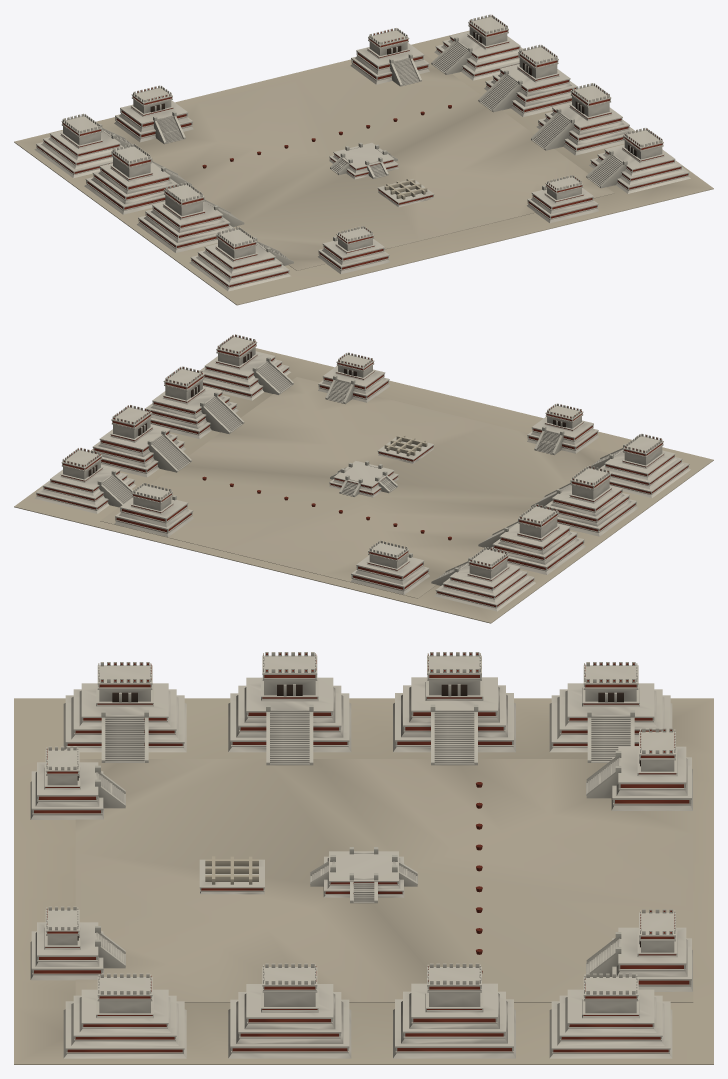
File: moon-plaza.glb
The picture shows the model from 3 angles, top to bottom: view 1: azimuth 30°, elevation 25°; view 2: azimuth 150°, elevation 25°; view 3: azimuth 270°, elevation 25°; orthographic projection. The views are drawn at different scales.
Parts seen in each view (by area): view 1: p0_plaza, p1_platforms, p2_braziers; view 2: p0_plaza, p1_platforms, p2_braziers; view 3: p0_plaza, p1_platforms, p2_braziers.
Boxes of the visible parts, bbox=[...] form: p0_plaza: bbox=[14, 30, 713, 305]; p1_platforms: bbox=[34, 14, 690, 291]; p2_braziers: bbox=[114, 28, 598, 274]; p0_plaza: bbox=[14, 348, 713, 623]; p1_platforms: bbox=[34, 334, 690, 611]; p2_braziers: bbox=[114, 352, 598, 594]; p0_plaza: bbox=[14, 698, 713, 1064]; p1_platforms: bbox=[63, 652, 672, 1058]; p2_braziers: bbox=[30, 728, 692, 991].
Size of the model in its own units: 210 by 17.62 by 170.
